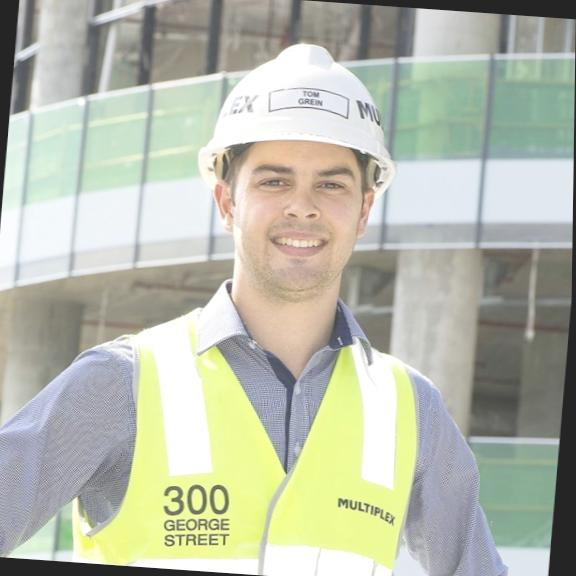safety_vest: (125, 290, 411, 576)
